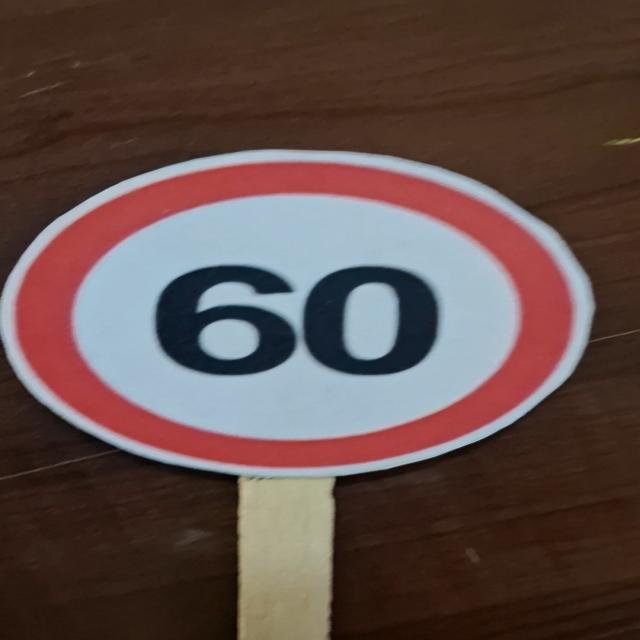Speed60: (0, 144, 604, 482)
